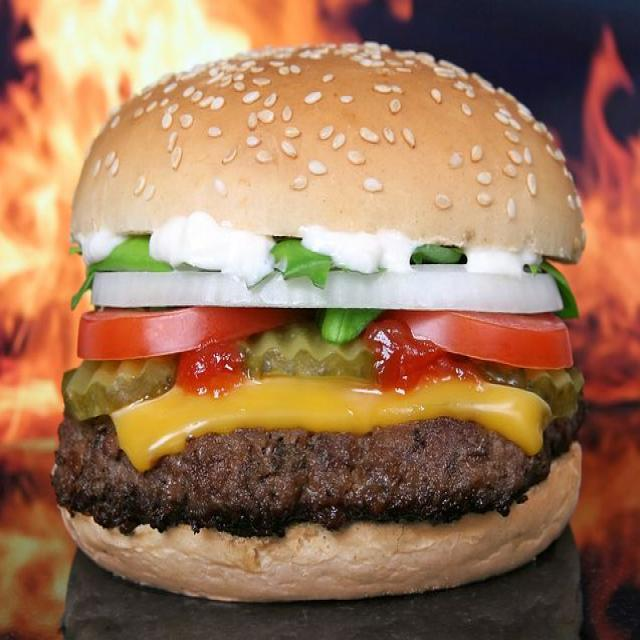burger: (54, 41, 587, 597)
